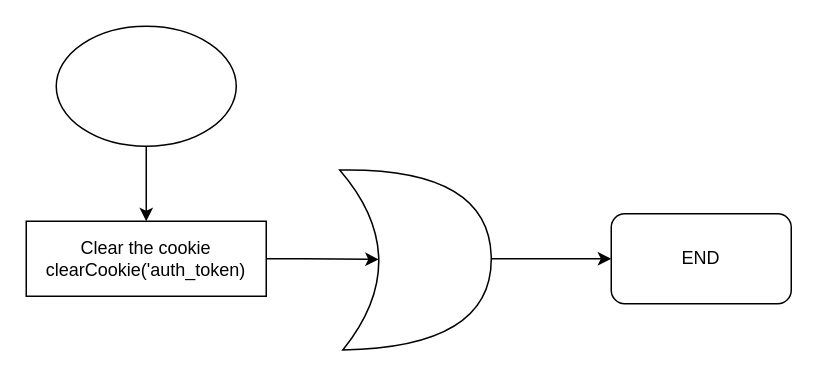
The diagram is 818 pixels wide and 377 high, and some of its shapes have lost their labels. Here are the shapes that lost their labels. From the top down, the centre of each, then its label:
[145,85]: POST REQUEST "/"
[415,258]: Logout Message
